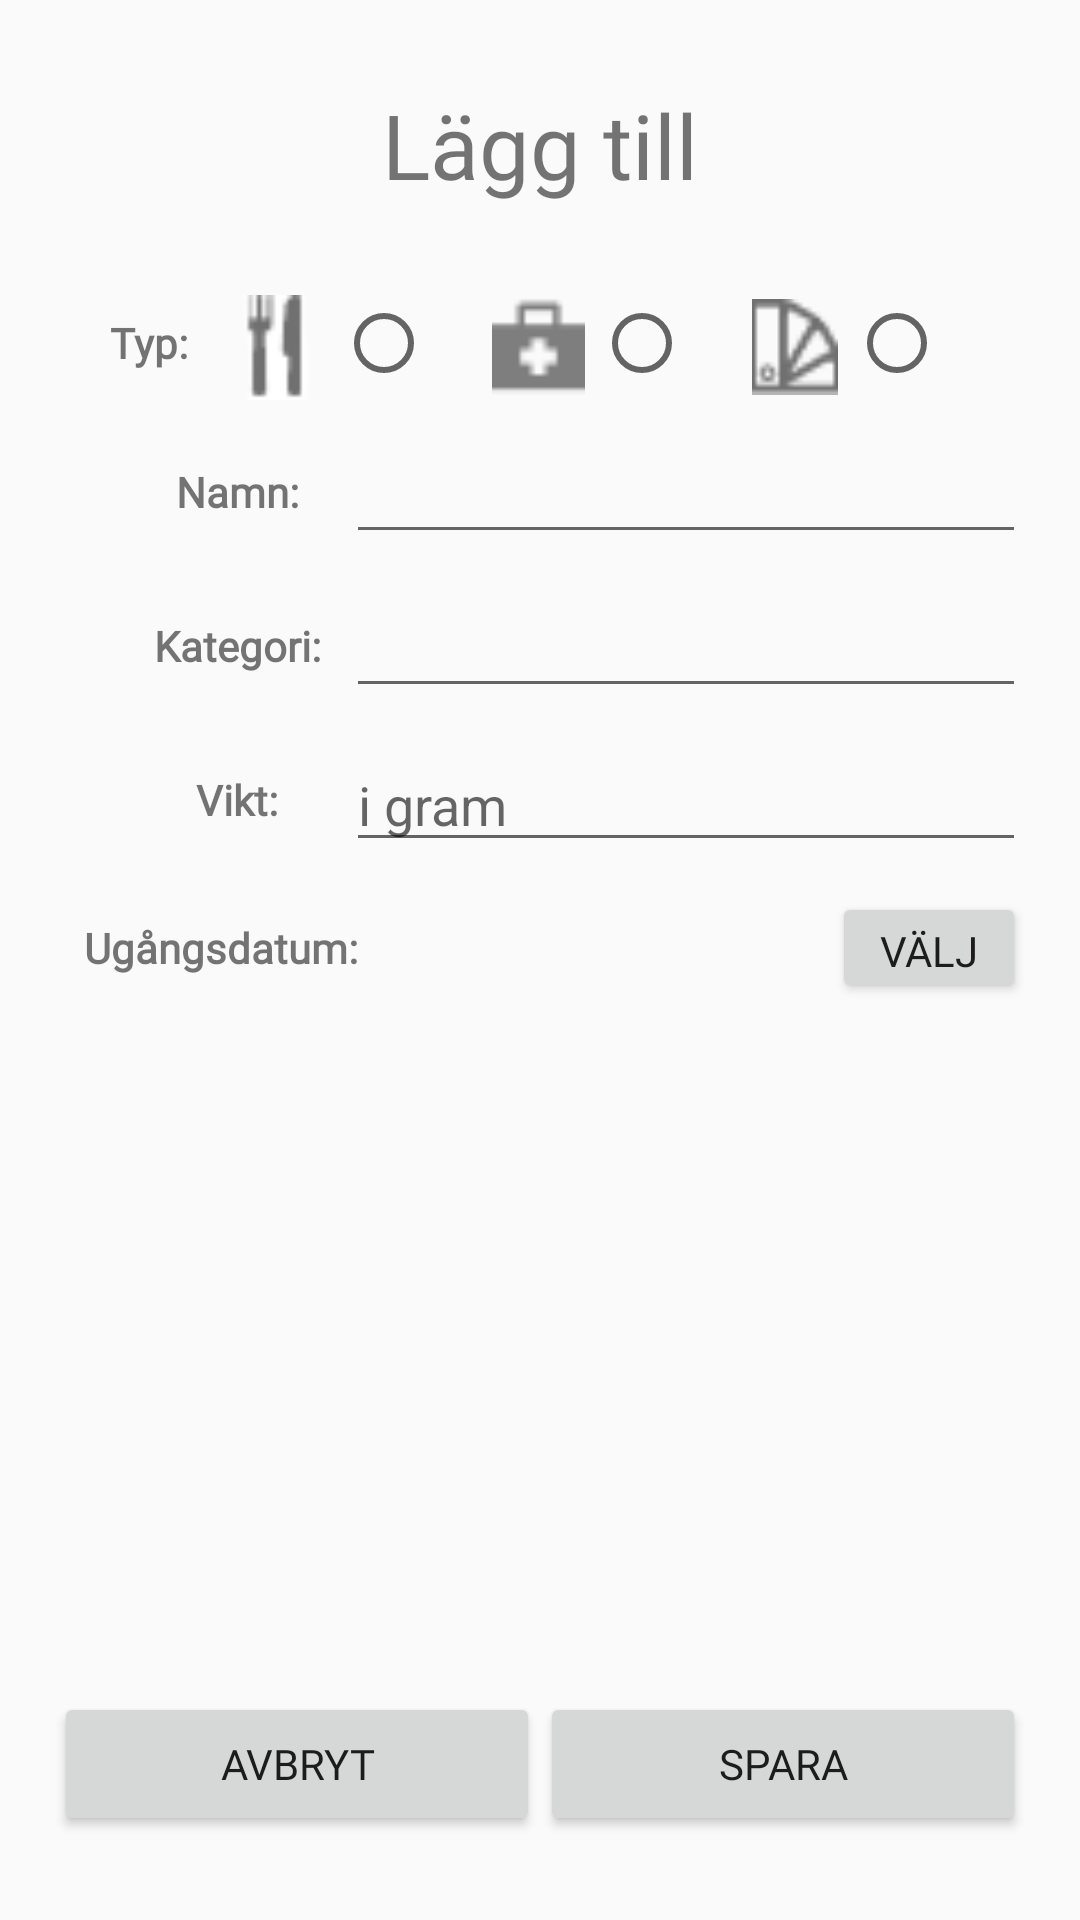

Named icons in this screenshot (1080×1920) and their centers, point (x, y):
pantry fooditem: point (274, 346)
pantry medicine: point (538, 345)
